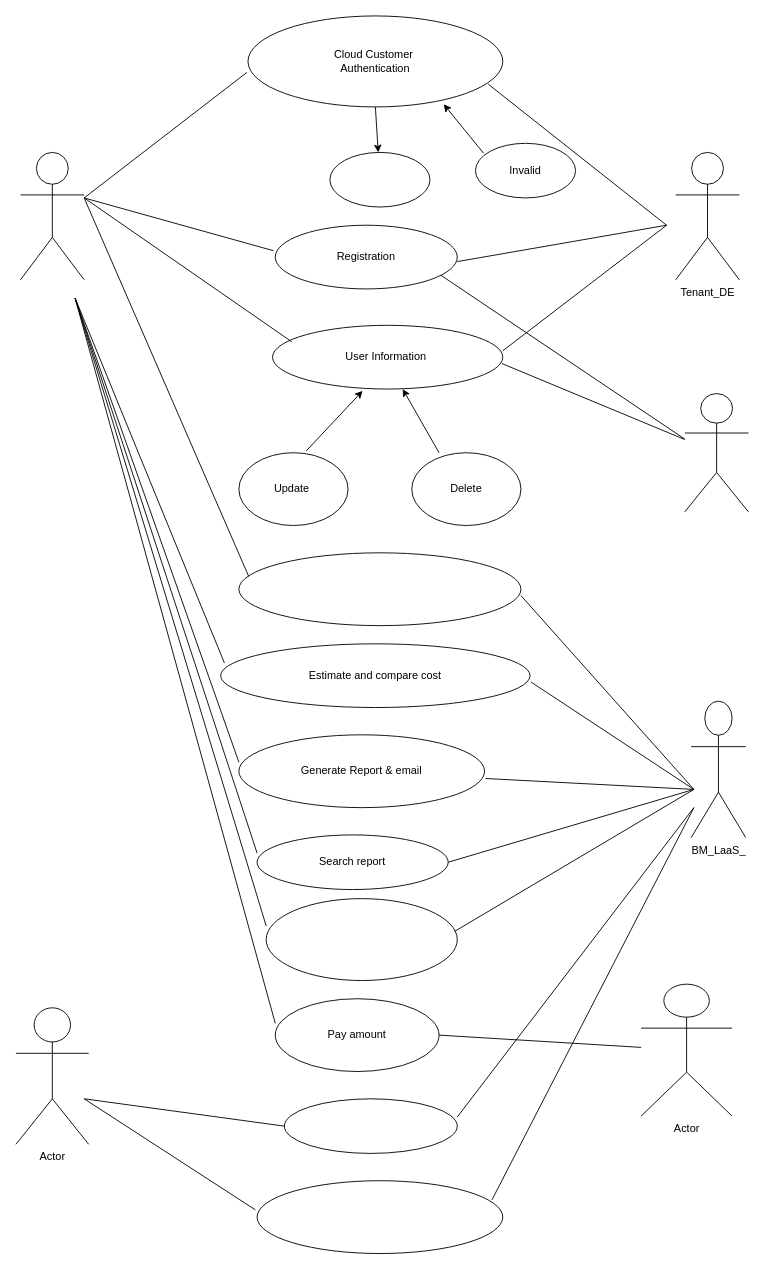
This 764x1269 diagram has some shape labels left out. Each missing label, with the box of its shape:
Customer: (20, 152, 84, 280)
Feedback: (265, 898, 457, 981)
Registratio: (684, 393, 748, 512)
Select Currency & Services: (238, 552, 521, 626)
Update Discount, Plan: (256, 1180, 503, 1254)
Upgrade Services: (283, 1098, 457, 1153)
Valid: (329, 152, 430, 207)
